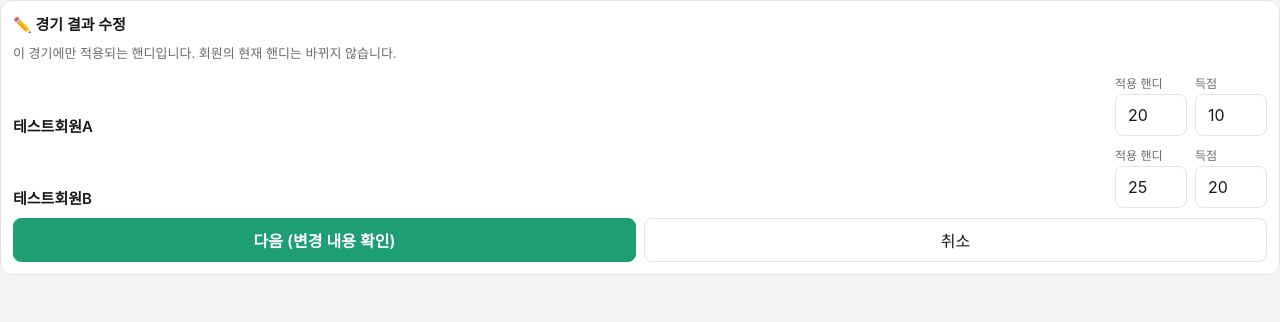
Test: CompletedGameEditor — 1단계: 입력 › 입력 점수가 그 경기의 적용 핸디를 넘으면 비교 화면으로 넘어가지 않고 안내한다
Replace the text in the number field named "테스트회원A 득점" with "21" at (1231, 114), box [1195,94,1267,136]
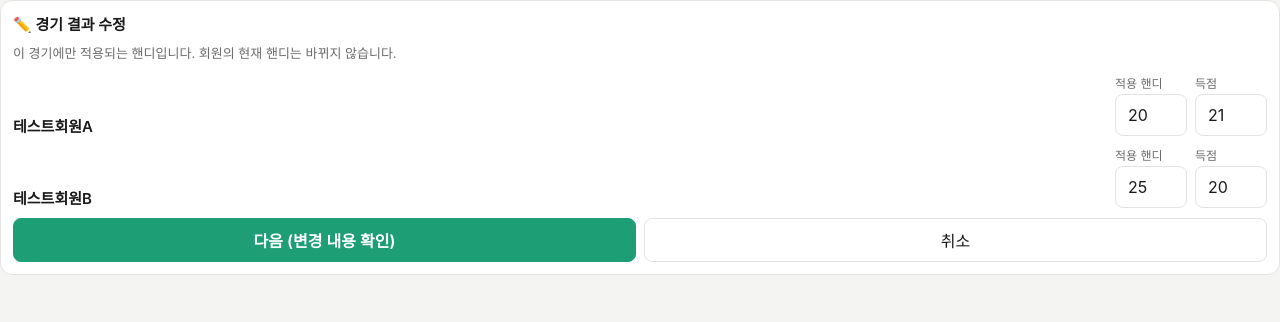
Click the button "다음 (변경 내용 확인)" at (324, 240), box [13,218,636,262]
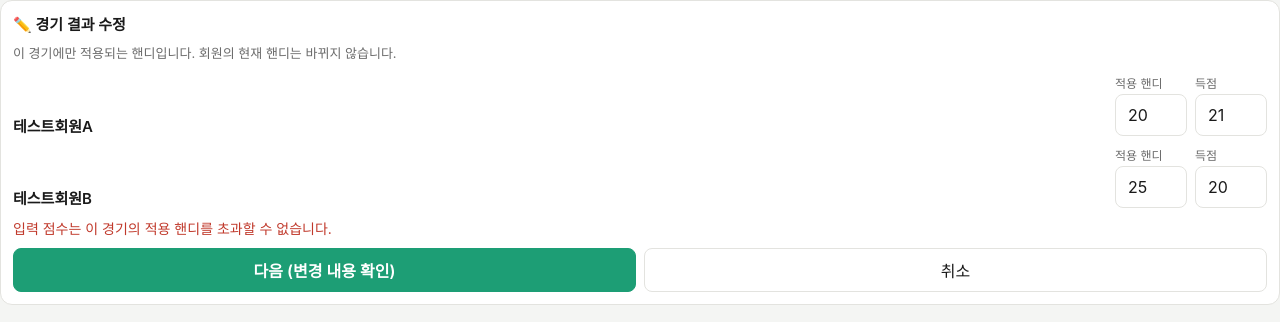
Expected: the text "입력 점수는 이 경기의 적용 핸디를 초과할 수 없습니다." is shown, [13,220,332,236]
